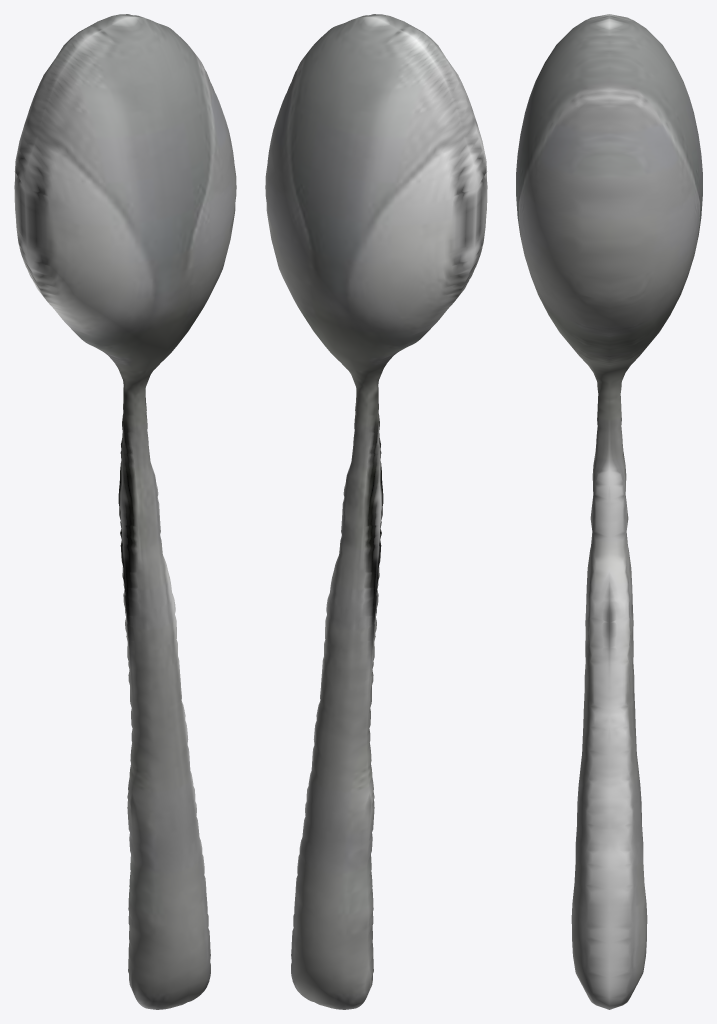
The picture shows the model from 3 angles, left to right: view 1: azimuth 30°, elevation 25°; view 2: azimuth 150°, elevation 25°; view 3: azimuth 270°, elevation 25°; orthographic projection. The views are drawn at different scales.
Visible parts, largest first — view 1: 693de524-e715-40e0-aaf6-8cb1b1b58c89; view 2: 693de524-e715-40e0-aaf6-8cb1b1b58c89; view 3: 693de524-e715-40e0-aaf6-8cb1b1b58c89.
Part boxes in pixels (x1=…): 693de524-e715-40e0-aaf6-8cb1b1b58c89: x1=14, y1=14, x2=236, y2=1009; 693de524-e715-40e0-aaf6-8cb1b1b58c89: x1=265, y1=14, x2=487, y2=1009; 693de524-e715-40e0-aaf6-8cb1b1b58c89: x1=516, y1=14, x2=702, y2=1009.
Bounding box in the file's own units: 1.33 × 6.31 × 1.11.
Materials: 1 (1 with a texture image).
